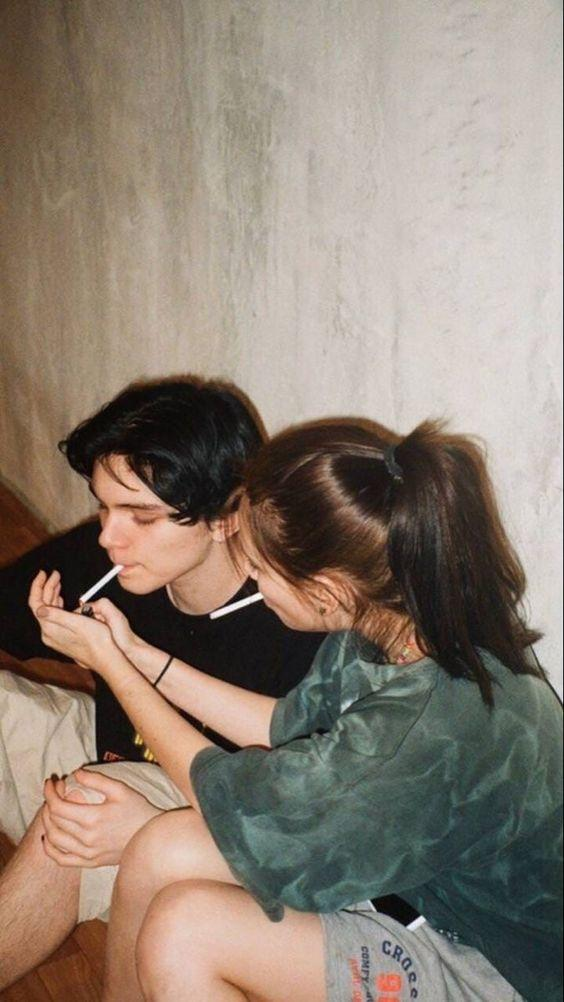cigarette: (79, 564, 125, 605), (209, 592, 265, 620)
